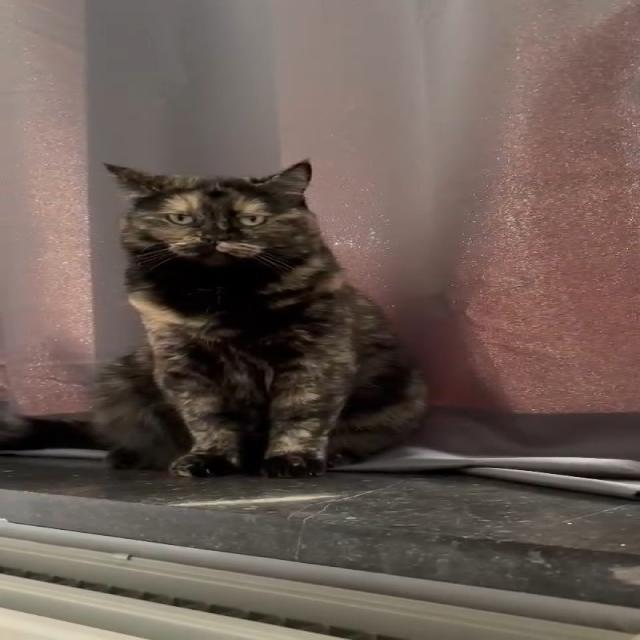authorized: (88, 157, 429, 479)
